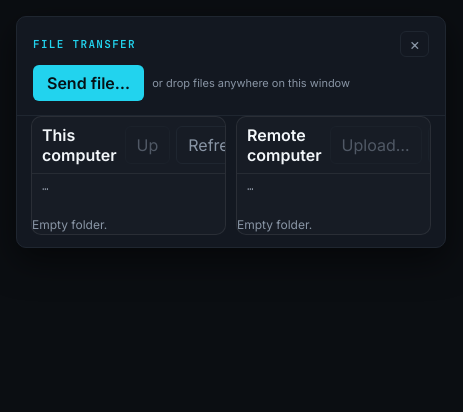
Test: FileTransfer › sends a picked file and shows backend errors as text
Step 1. Click the button "Send file…" → (89, 83), box [33,65,144,101]
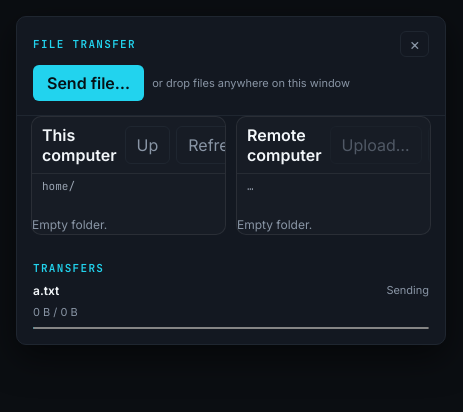
Result: the text "a.txt" is shown at [33,283,59,298]
Step 2. Click the button "Send file…" → (89, 83), box [33,65,144,101]
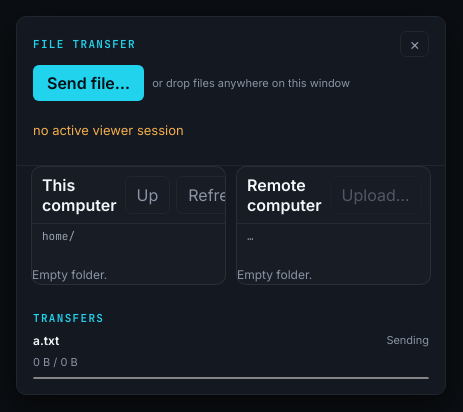
Result: the message reads "no active viewer session" at [33,122,184,138]
